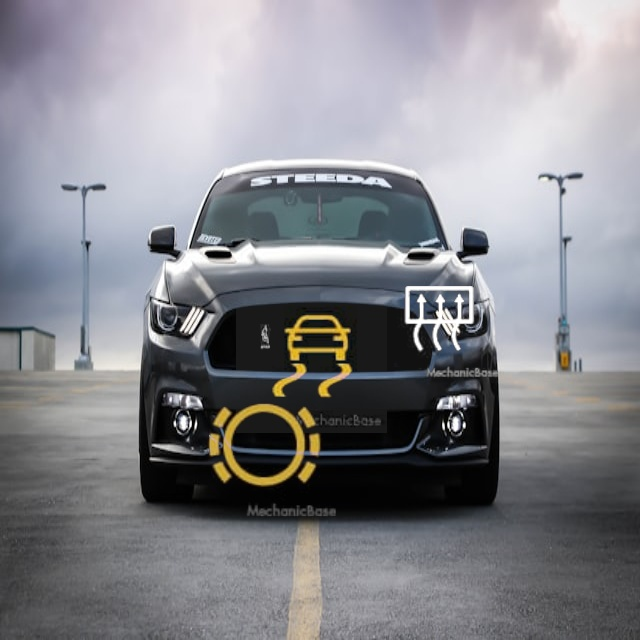symbol: (186, 368, 342, 524), (236, 282, 387, 433), (377, 257, 503, 383)
